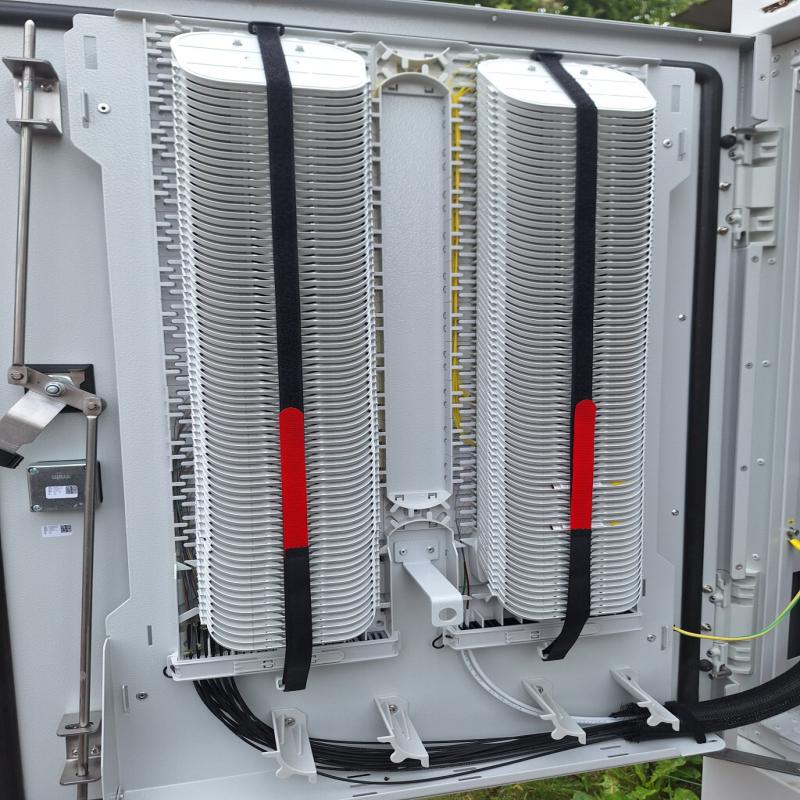NT-Gehause: (3, 2, 793, 800)
Spleiskassetten: (150, 16, 399, 655), (459, 45, 663, 629)
